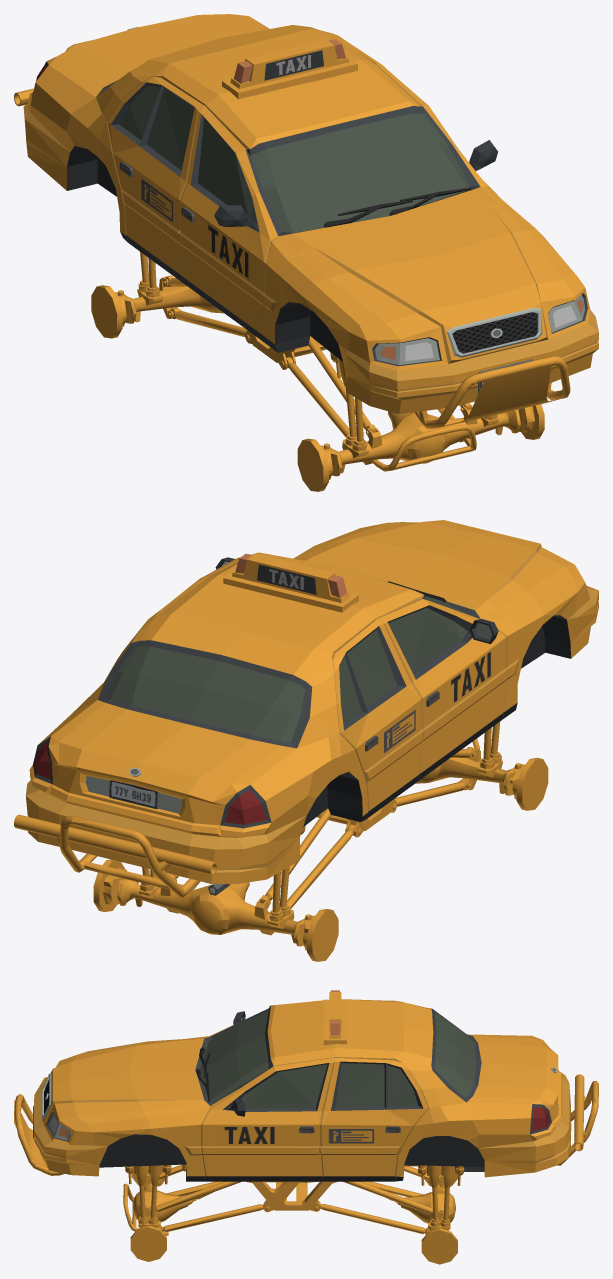
The model's file is taxi_bigger.fbx.
3 renders of one model, top to bottom at view 1: azimuth 30°, elevation 25°; view 2: azimuth 150°, elevation 25°; view 3: azimuth 270°, elevation 25°, orthographic. The views are drawn at different scales.
Parts seen in each view (by area): view 1: SM_Veh_Car_Taxi_01, SM_Veh_Car_Taxi_Glass, MainBody, cantruoc; view 2: SM_Veh_Car_Taxi_01, SM_Veh_Car_Taxi_Glass, MainBody, cansau, SM_Veh_Car_Taxi_Plates; view 3: SM_Veh_Car_Taxi_01, MainBody, SM_Veh_Car_Taxi_Glass, cansau, cantruoc.
Part boxes in pixels (box(x1,y1,x2,y2)): SM_Veh_Car_Taxi_01: box(23, 14, 598, 414); SM_Veh_Car_Taxi_Glass: box(120, 85, 469, 232); MainBody: box(91, 252, 544, 491); cantruoc: box(414, 356, 570, 429); SM_Veh_Car_Taxi_01: box(25, 520, 598, 895); SM_Veh_Car_Taxi_Glass: box(106, 595, 467, 742); MainBody: box(93, 721, 548, 961); cansau: box(14, 814, 217, 897); SM_Veh_Car_Taxi_Plates: box(108, 780, 158, 808); SM_Veh_Car_Taxi_01: box(34, 990, 571, 1181); MainBody: box(123, 1164, 464, 1264); SM_Veh_Car_Taxi_Glass: box(199, 1010, 476, 1108); cansau: box(557, 1074, 598, 1165); cantruoc: box(14, 1094, 64, 1175).
Size of the model in its own units: 6.13 by 6.62 by 15.86.
5 materials, 4 textured.
